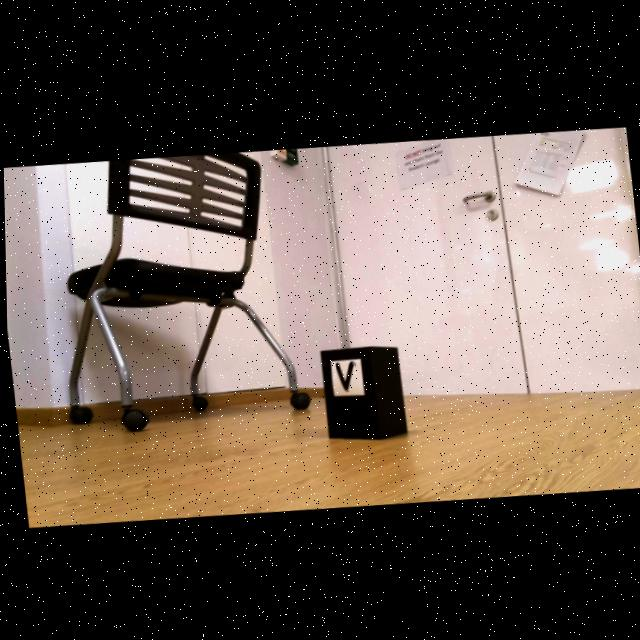V: (334, 360, 353, 389)
